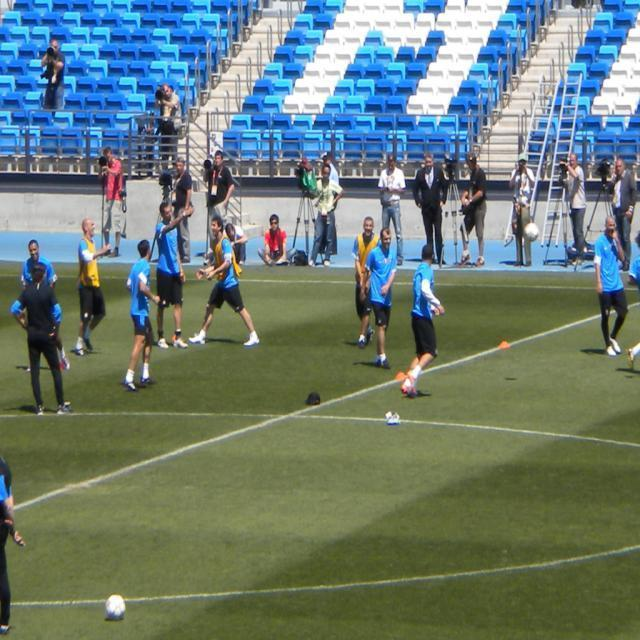ball: (105, 591, 125, 622), (526, 221, 539, 241)
